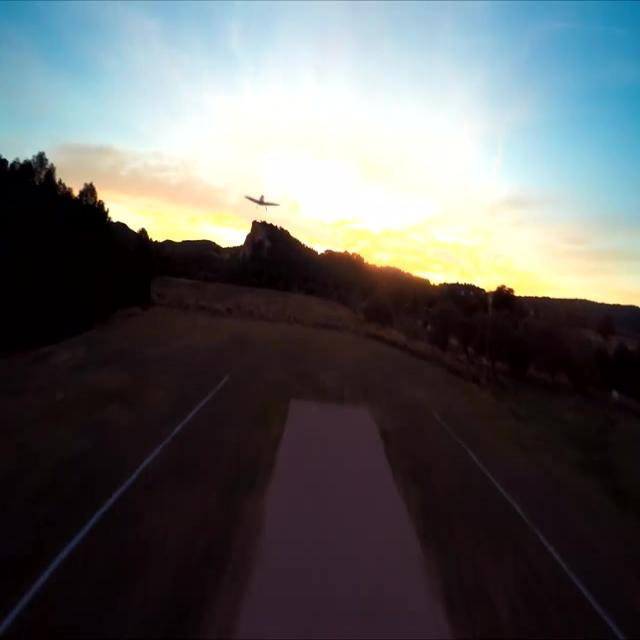iha: (238, 184, 274, 207)
